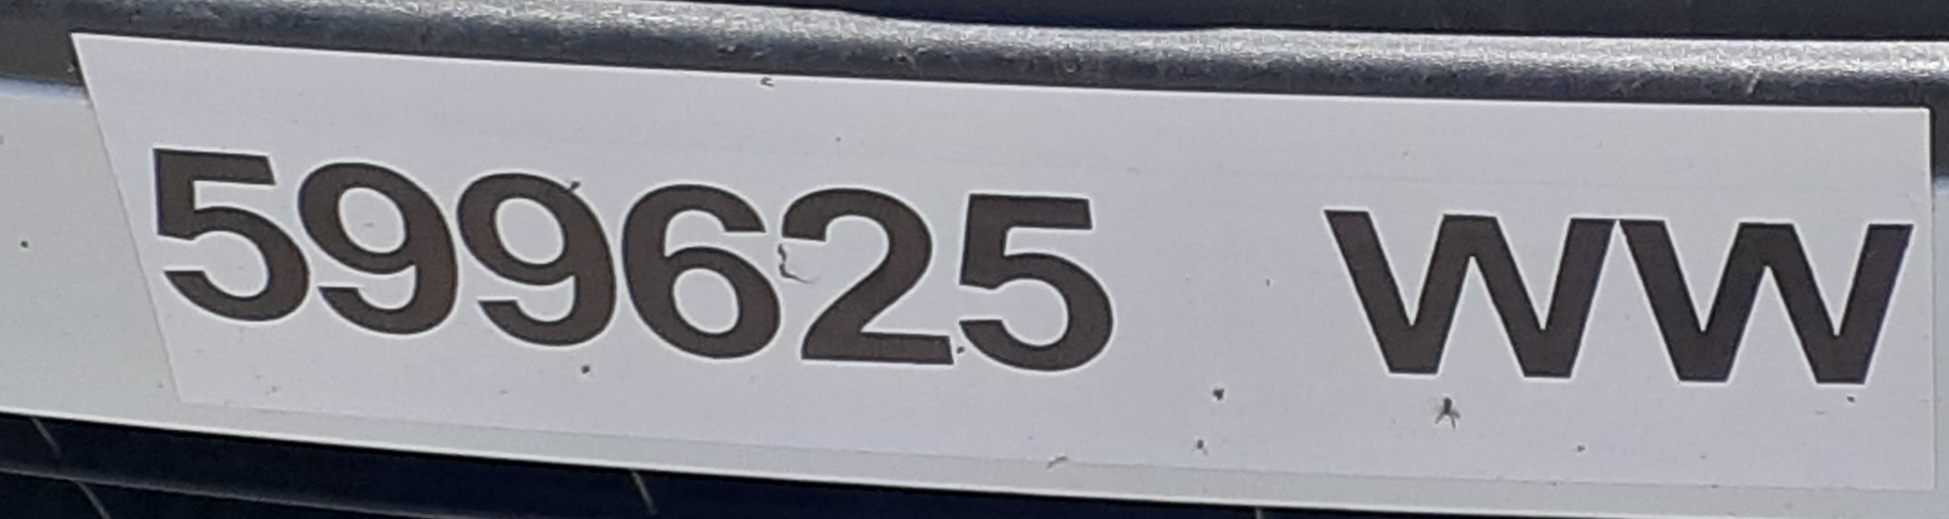2: (779, 185, 954, 374)
5: (135, 127, 316, 334), (957, 185, 1118, 397)
6: (627, 170, 785, 392)
9: (293, 145, 457, 354), (457, 156, 618, 357)
w: (1305, 188, 1618, 409), (1624, 202, 1923, 420)
